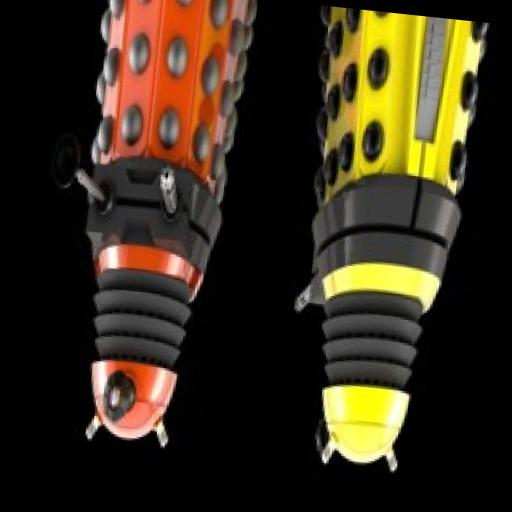dalek: (262, 4, 490, 484), (31, 0, 268, 457)
